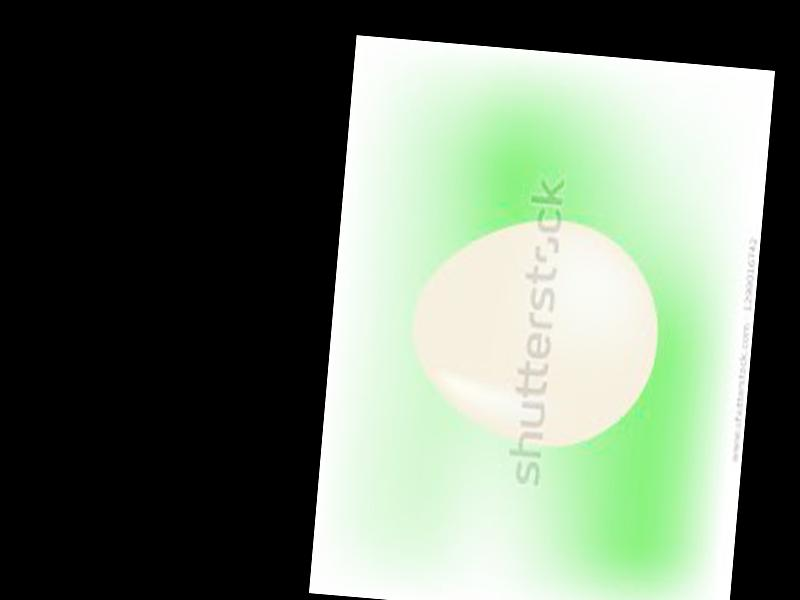Eggs: (404, 208, 665, 453)
